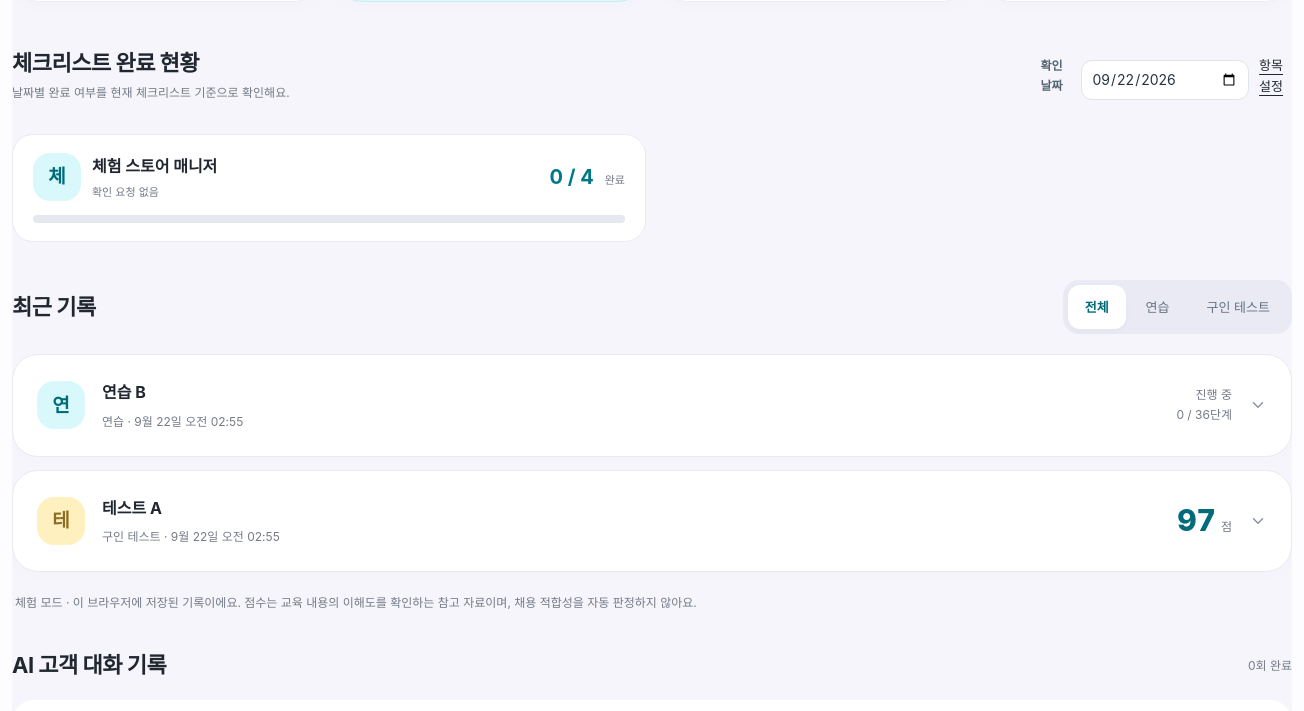
reads saved test scores and reveals the selected answer and source for every completed step
(page scrolled)
Check: the text "테스트 A" is shown, box x1=102 y1=498 x2=162 y2=518
Click the button "구인 테스트".
click(1238, 307)  # box x1=1190 y1=285 x2=1287 y2=329
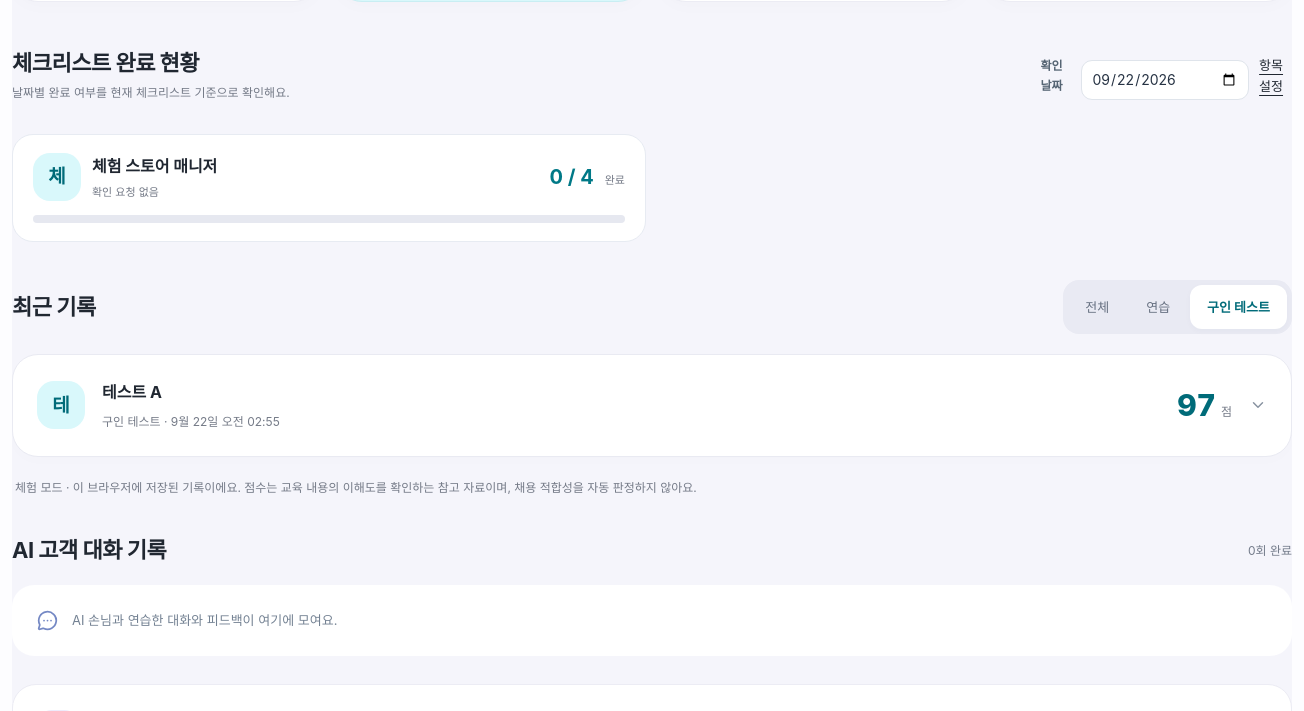
Check: the heading "연습 B" is gone
Click the text "테스트 A".
click(132, 392)  # box x1=102 y1=382 x2=162 y2=402
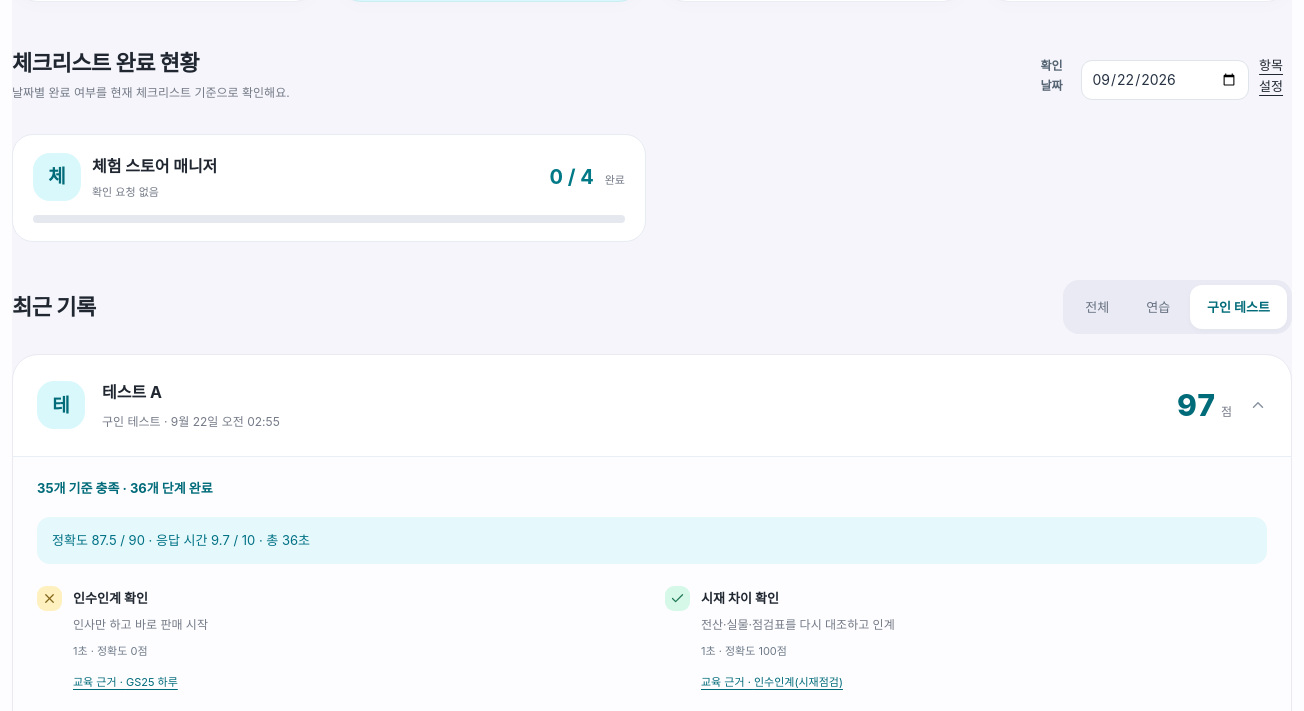
Check: the number of list items is 36
Check: the text "정확도 87.5 / 90 · 응답 시간 9.7 / 10 · 총 36초" is shown, box x1=37 y1=517 x2=1267 y2=564
